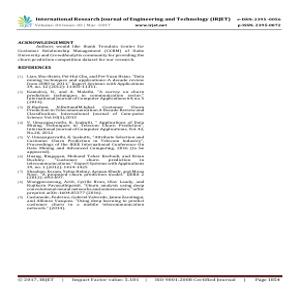image: (12, 14, 35, 29)
text: (16, 37, 145, 213), (33, 14, 283, 30)
